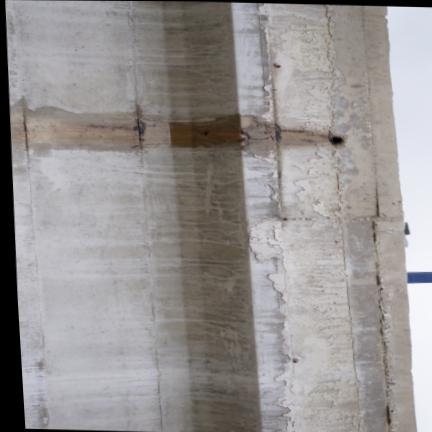spalling: (251, 9, 363, 432)
stain: (4, 0, 416, 432), (135, 2, 269, 432)
